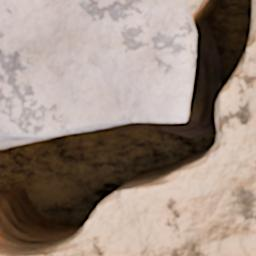brick: (0, 0, 195, 135)
crack: (0, 0, 255, 255)
